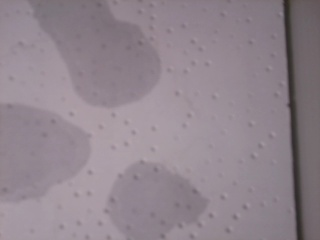Water_detected: (50, 0, 139, 90), (0, 117, 79, 188), (116, 175, 180, 225)
